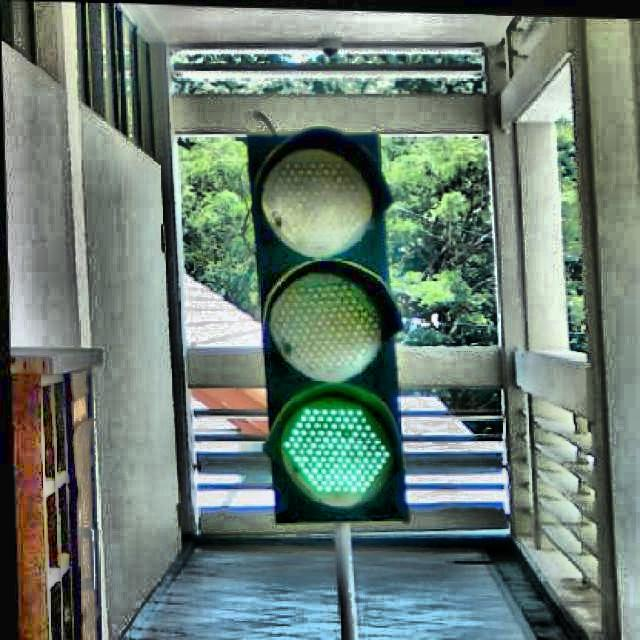green: (248, 130, 406, 521)
